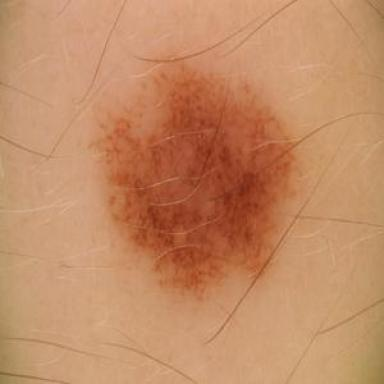Melanoma: (98, 71, 293, 291)
